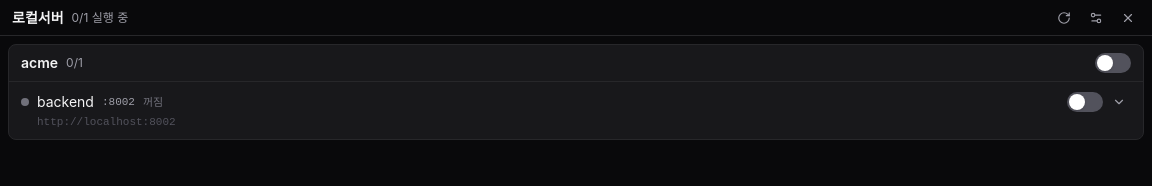
Test: App › 설정 창 열기가 실패하면 본문 위 alert 에 빈 오류 문자열이면 대체 문구를 보여준다
The width and height of the screenshot is (1152, 186).
Expected: the heading "acme" is shown, [21,53,58,73]
What coordinates should you click on to do the following:
click the button named "설정 열기"
I would click on:
 (1096, 18)
Its box is [1084,6,1108,30].
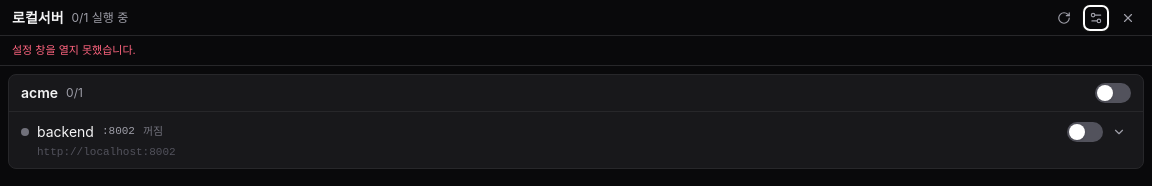
Expected: the heading "acme" is shown, [21,82,58,102]
Now the message reads "설정 창을 열지 못했습니다.", box [12,43,136,57]
